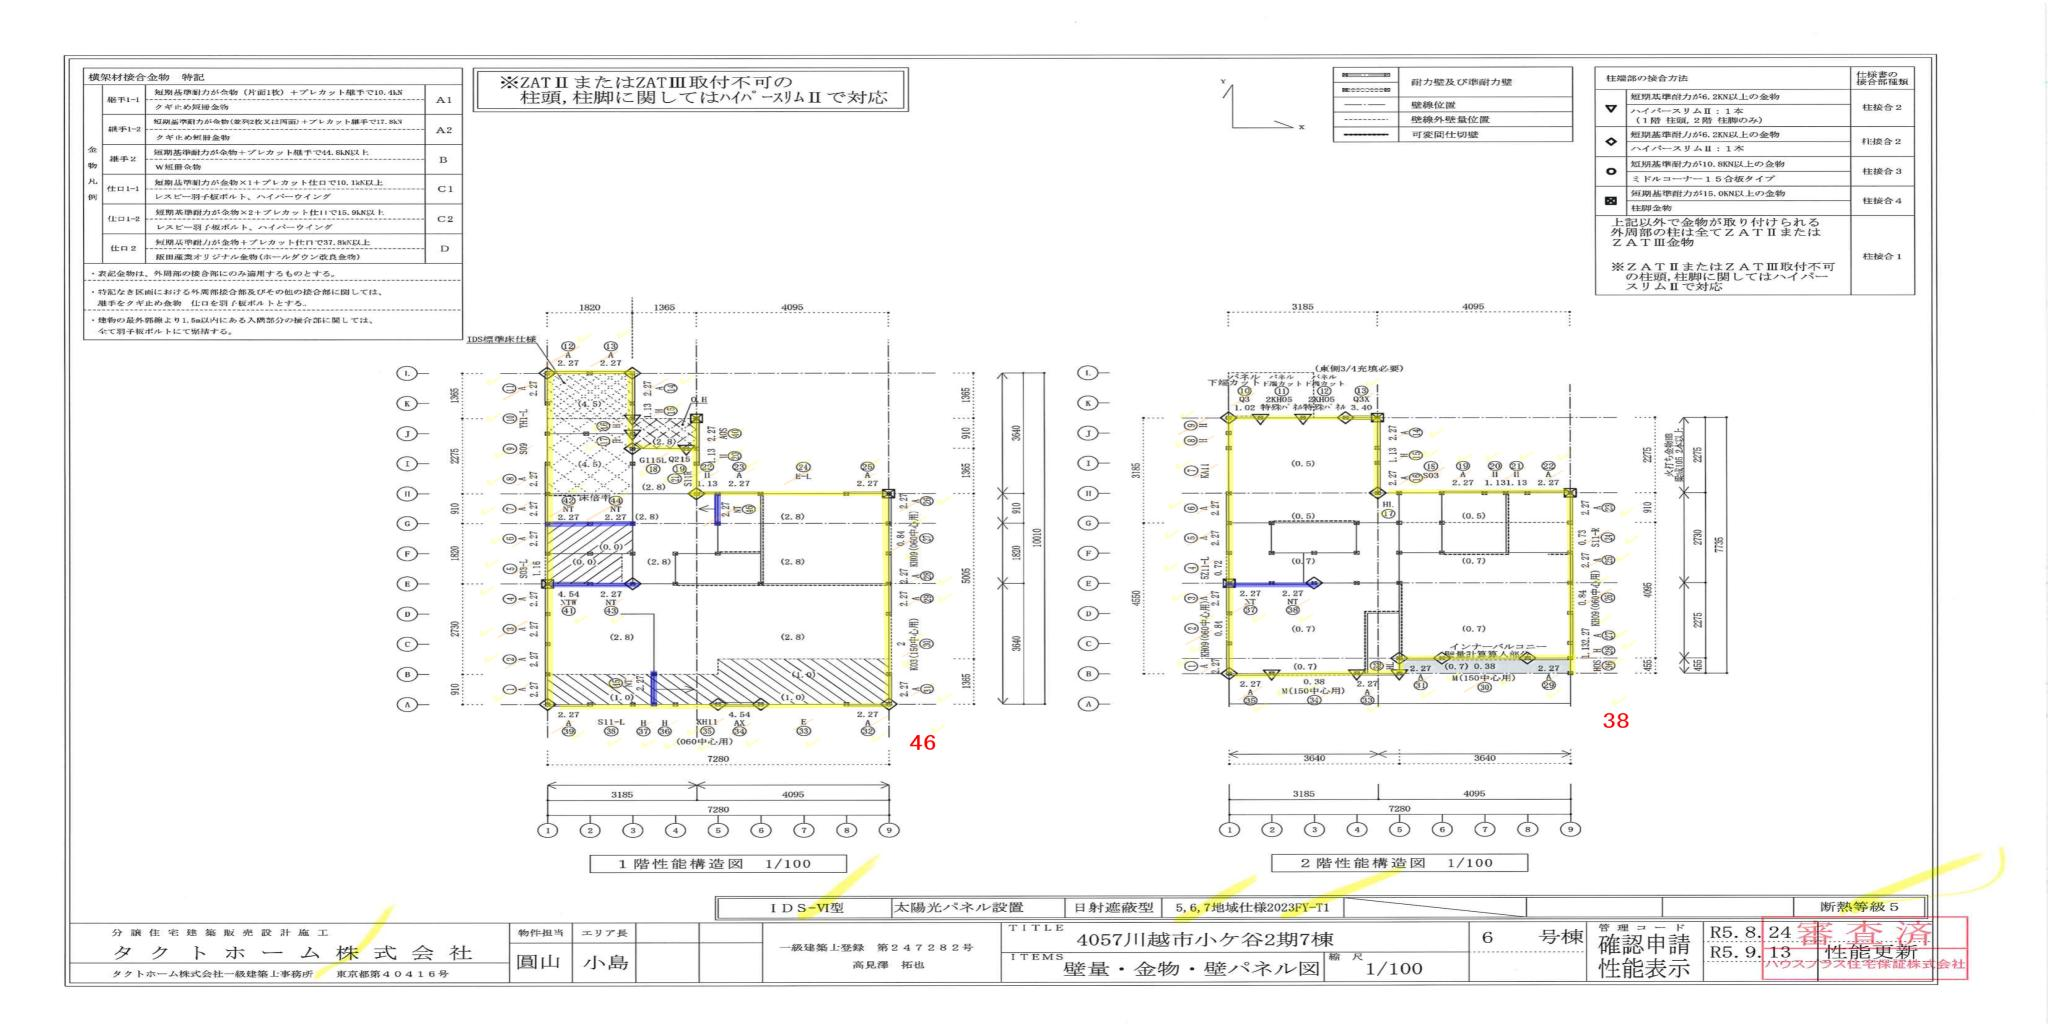CAD: (465, 333, 944, 754), (1178, 384, 1621, 709)
